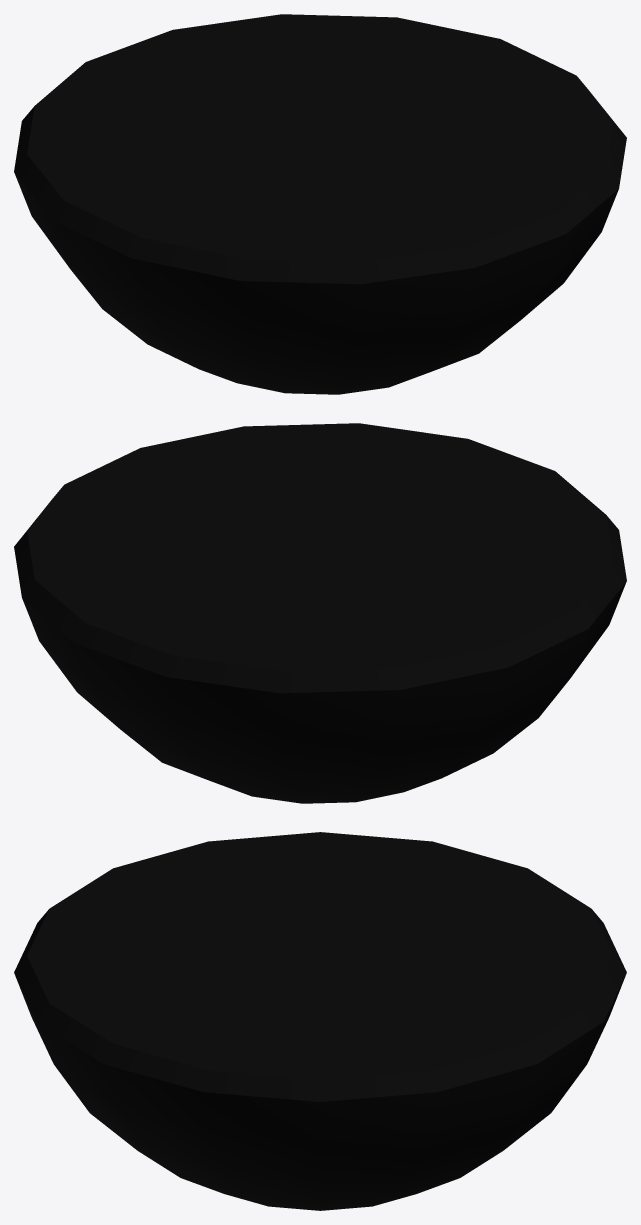
Rendered from Leg_D_01_C02.fbx.
3 views of the same model, one above another, from view 1: azimuth 30°, elevation 25°; view 2: azimuth 150°, elevation 25°; view 3: azimuth 270°, elevation 25° (orthographic).
Visible parts, largest first — view 1: Leg_D_01_C02; view 2: Leg_D_01_C02; view 3: Leg_D_01_C02.
Part boxes in pixels (x1,y1,x2,y2): Leg_D_01_C02: (14, 14, 626, 394); Leg_D_01_C02: (14, 423, 626, 803); Leg_D_01_C02: (14, 832, 626, 1210).
Bounding box in the file's own units: 95.42 × 38.87 × 95.42.
